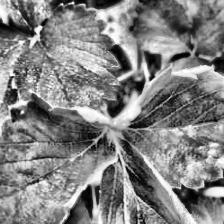Powdery Mildew Leaf: (0, 90, 118, 224), (110, 64, 224, 189), (88, 130, 224, 224)
